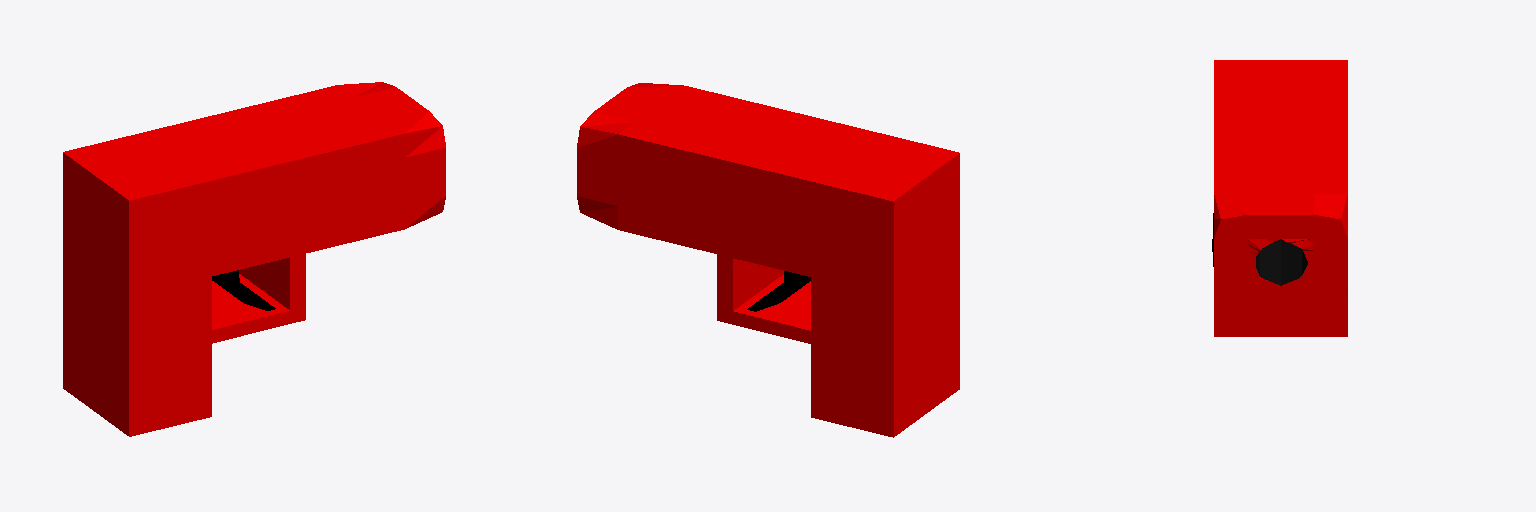
Rendered from gun.obj.
The picture shows the model from 3 angles: view 1: azimuth 30°, elevation 25°; view 2: azimuth 150°, elevation 25°; view 3: azimuth 270°, elevation 25°; orthographic projection.
Visible parts, largest first — view 1: Cube_Cube.001; view 2: Cube_Cube.001; view 3: Cube_Cube.001.
Part boxes in pixels (bbox=[...]): Cube_Cube.001: bbox=[63, 82, 445, 436]; Cube_Cube.001: bbox=[577, 83, 959, 437]; Cube_Cube.001: bbox=[1212, 60, 1347, 336].
Size of the model in its own units: 0.544 by 0.385 by 0.1998.